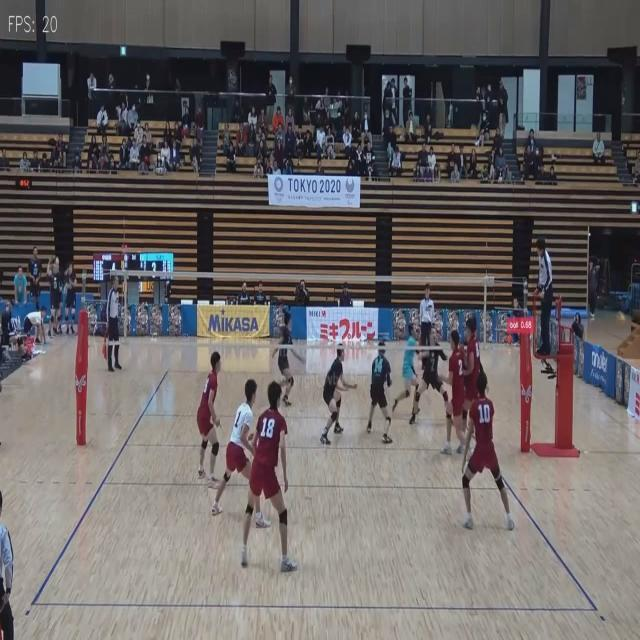volleyball: (617, 313, 628, 326)
